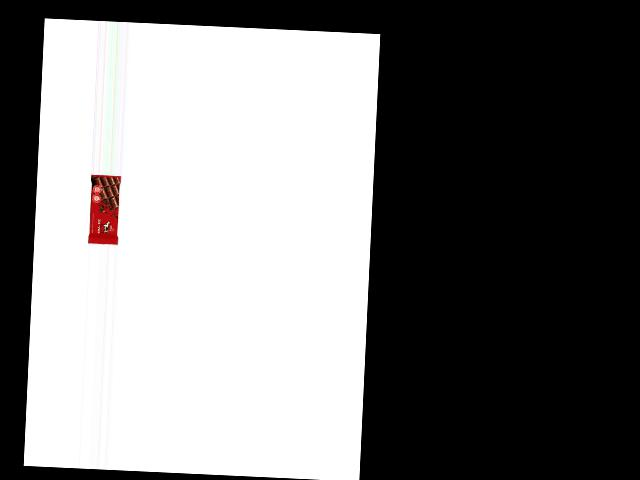chocolate: (87, 174, 120, 246)
